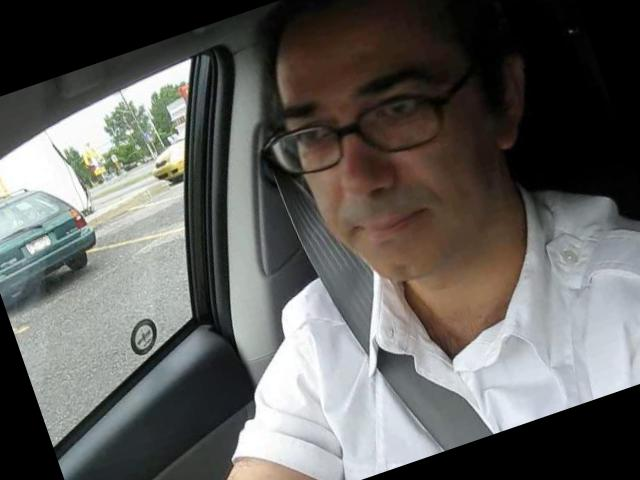eye_open: (361, 86, 439, 146), (281, 111, 349, 170)
face: (266, 29, 530, 310)
